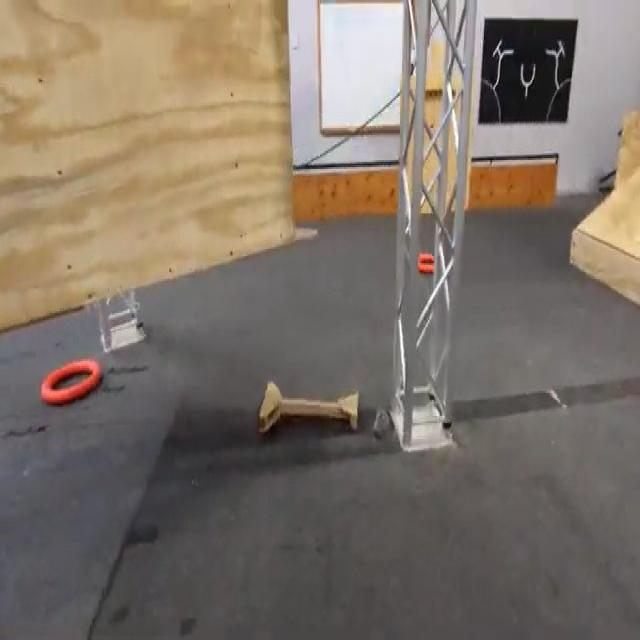note: (38, 356, 102, 405), (418, 254, 436, 276)
